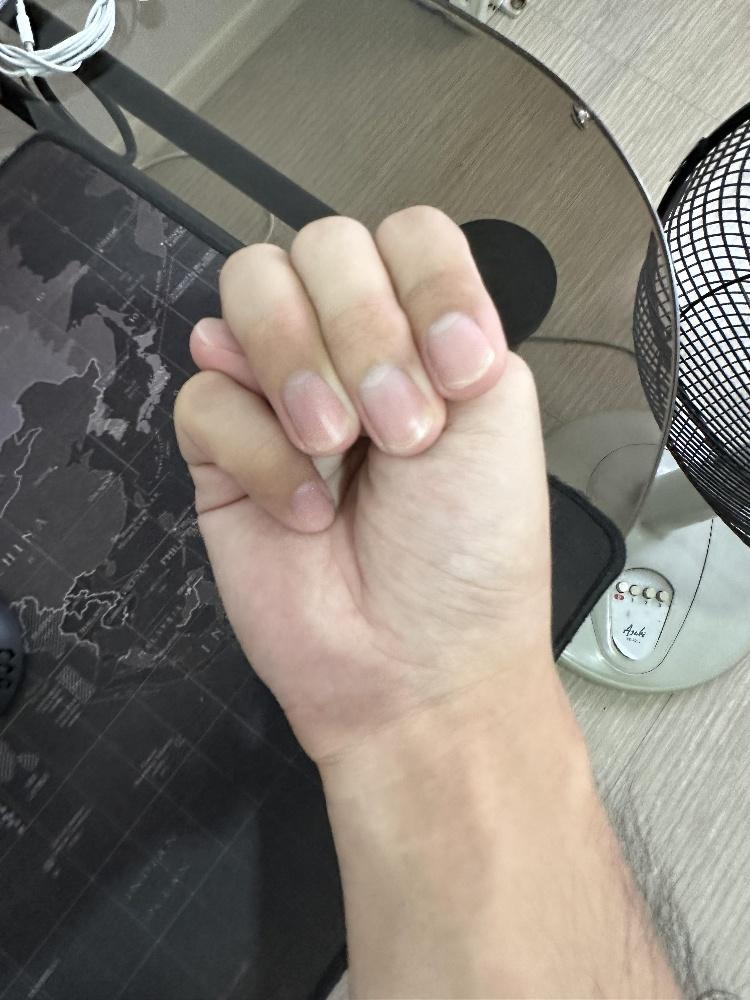m: (170, 196, 556, 764)
